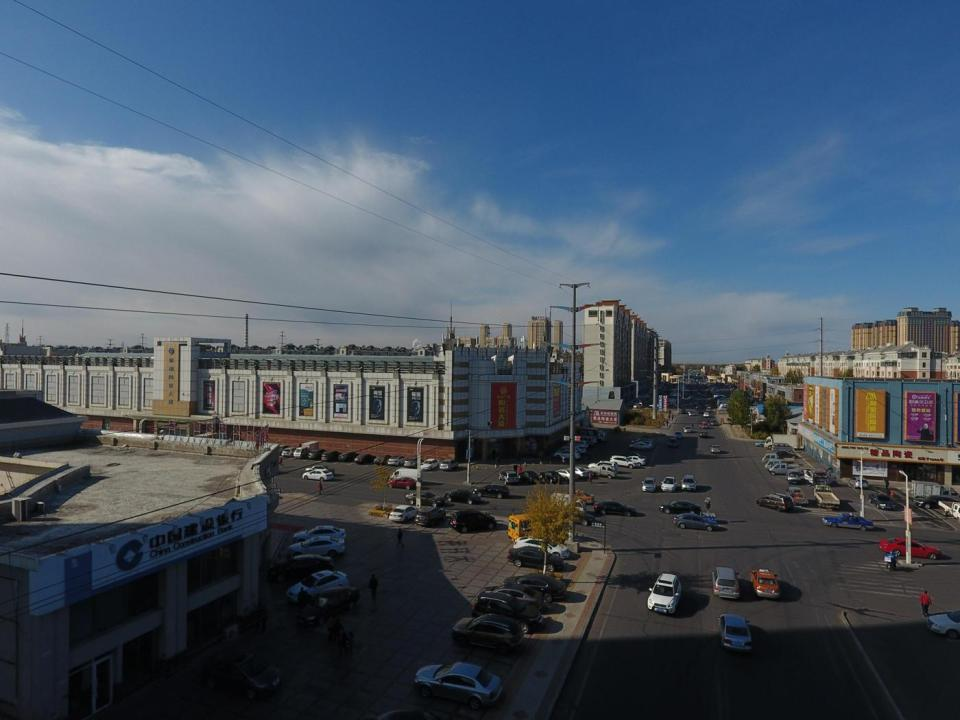bus: (507, 511, 565, 544)
car: (414, 662, 503, 708), (198, 652, 281, 701), (473, 590, 543, 634), (453, 613, 524, 653), (300, 585, 358, 625), (475, 584, 544, 613), (287, 569, 348, 600), (268, 554, 332, 581), (503, 575, 566, 601), (878, 537, 942, 559), (647, 573, 682, 613), (288, 535, 345, 559), (507, 547, 562, 571), (719, 614, 752, 653), (514, 538, 570, 559), (449, 510, 497, 534), (291, 524, 345, 544), (822, 512, 874, 531), (712, 567, 740, 599), (750, 570, 780, 599), (672, 513, 718, 531), (552, 506, 594, 525), (593, 500, 636, 517), (913, 496, 960, 511), (756, 493, 793, 511), (406, 491, 446, 507), (473, 482, 510, 499), (659, 500, 701, 514), (415, 507, 445, 526), (559, 489, 594, 505), (444, 490, 480, 504), (386, 475, 420, 489), (390, 505, 418, 521), (869, 493, 895, 510), (302, 468, 333, 481), (610, 456, 638, 468), (587, 461, 616, 472), (498, 470, 518, 485), (567, 466, 587, 480), (554, 449, 582, 459), (848, 476, 869, 489), (518, 470, 538, 483), (556, 469, 576, 482), (681, 474, 696, 491), (541, 470, 560, 483), (306, 464, 333, 473), (374, 453, 394, 465), (439, 459, 459, 471), (562, 445, 586, 455), (662, 477, 678, 492), (321, 449, 340, 461), (642, 477, 657, 492), (773, 450, 798, 459), (623, 452, 647, 461), (308, 449, 327, 460), (339, 450, 358, 461), (404, 457, 423, 468), (420, 459, 439, 470), (624, 456, 644, 466), (358, 453, 376, 464), (388, 455, 406, 466), (755, 440, 778, 448), (283, 446, 298, 457), (629, 442, 649, 450), (570, 440, 587, 449), (274, 444, 287, 455), (632, 439, 654, 445), (637, 441, 653, 448), (668, 437, 677, 448), (709, 445, 720, 453), (649, 402, 663, 408), (699, 422, 710, 428), (674, 430, 682, 438), (718, 406, 730, 411), (683, 426, 691, 433), (710, 420, 718, 426), (722, 404, 733, 408), (720, 404, 728, 409), (700, 432, 708, 437), (633, 403, 640, 408), (688, 410, 695, 415), (704, 412, 710, 417), (698, 408, 704, 412), (696, 406, 700, 410), (705, 403, 709, 407), (681, 410, 686, 413), (688, 396, 692, 399), (697, 392, 701, 395), (702, 393, 706, 396), (705, 400, 708, 402)
truck: (912, 481, 960, 505), (550, 492, 586, 515), (804, 468, 837, 487), (814, 485, 840, 509), (938, 500, 960, 525), (764, 434, 798, 449), (576, 427, 606, 442), (588, 464, 616, 480), (294, 442, 320, 458), (765, 459, 799, 471), (768, 462, 801, 474), (785, 488, 808, 505), (762, 453, 794, 465), (785, 468, 800, 485), (668, 398, 679, 406), (668, 402, 677, 407)
van: (391, 467, 421, 482), (771, 442, 795, 454), (572, 435, 594, 446), (706, 406, 711, 412), (695, 401, 698, 405)
